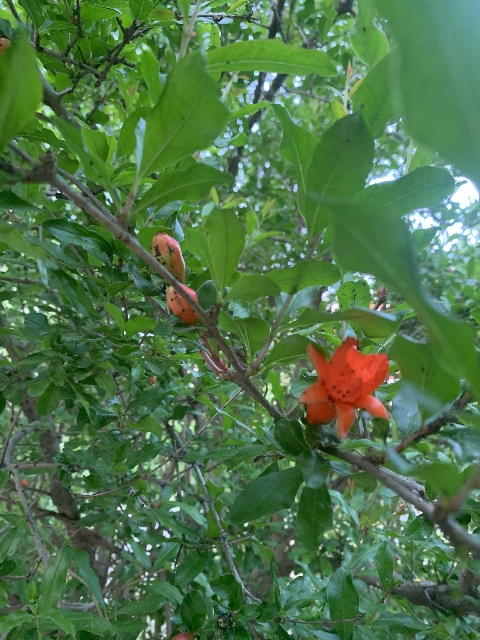bud: (150, 232, 185, 282), (166, 283, 200, 325)
flower: (300, 337, 390, 438)
